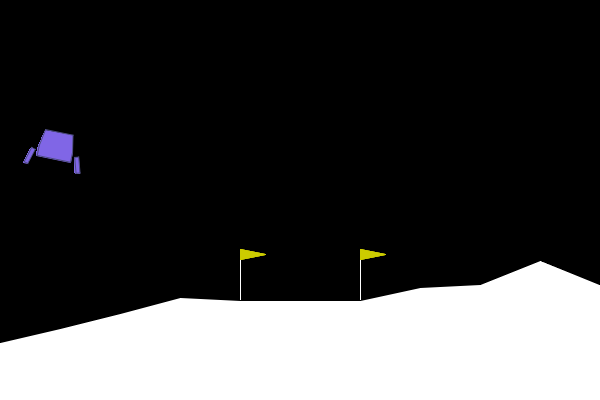lander: (22, 125, 89, 176)
